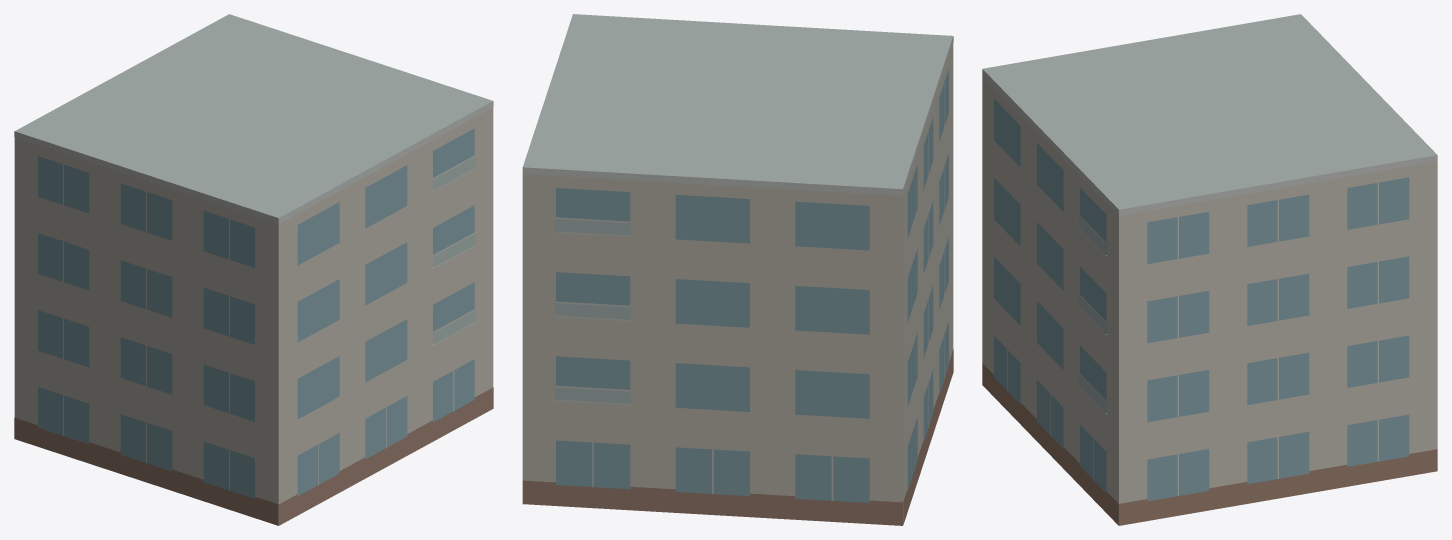
File: survey-upis-32956990.glb
3 views of the same model, side by side, from view 1: azimuth 30°, elevation 25°; view 2: azimuth 150°, elevation 25°; view 3: azimuth 270°, elevation 25° (orthographic). The views are drawn at different scales.
Parts seen in each view (by area): view 1: survey-upis-32956990.tmp; view 2: survey-upis-32956990.tmp; view 3: survey-upis-32956990.tmp.
Part boxes in pixels (x1,y1,x2,y2): survey-upis-32956990.tmp: [14, 14, 493, 525]; survey-upis-32956990.tmp: [522, 14, 953, 525]; survey-upis-32956990.tmp: [982, 14, 1437, 525].
Size of the model in its own units: 16.2 by 12.2 by 15.93.
